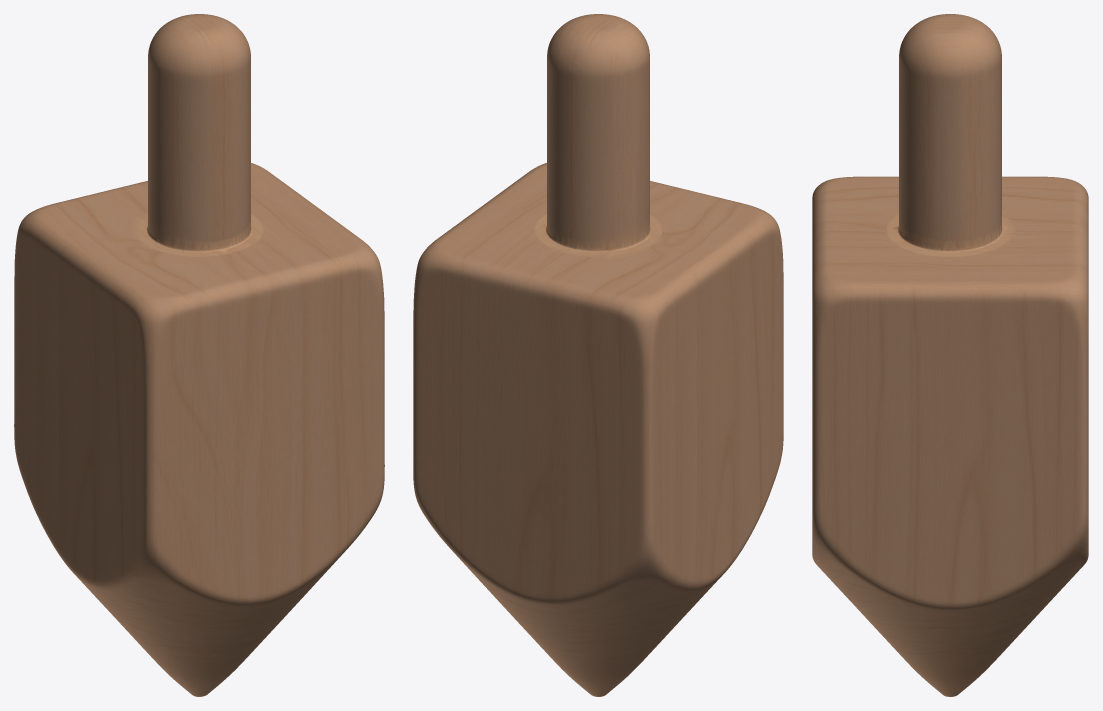
The model's file is Meshy_AI_dreidel_1_0228023706_texture.glb.
The picture shows the model from 3 angles, left to right: view 1: azimuth 30°, elevation 25°; view 2: azimuth 150°, elevation 25°; view 3: azimuth 270°, elevation 25°; orthographic projection.
Bounding box in the file's own units: 0.7099 × 1.9 × 0.71.
Materials: 1 (1 with a texture image).
